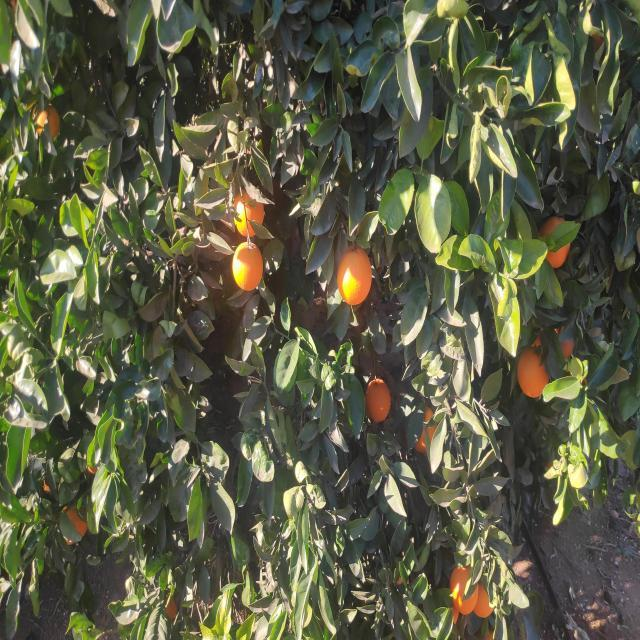Jeruk Sudah Matang: (337, 246, 372, 306), (517, 344, 551, 398), (540, 212, 570, 266), (232, 244, 266, 291), (233, 191, 265, 237), (451, 564, 477, 614), (366, 379, 392, 423), (34, 102, 61, 138), (472, 579, 496, 618), (416, 408, 437, 452), (61, 503, 86, 538), (555, 327, 576, 360), (450, 596, 460, 624)
